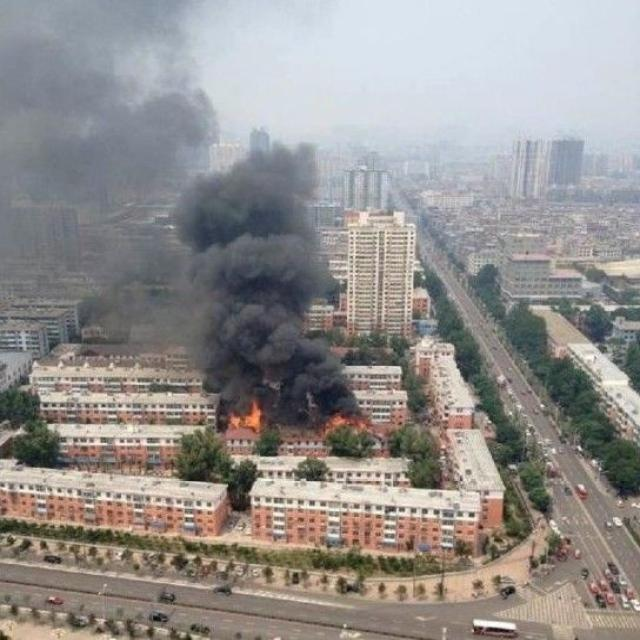Fire: (230, 402, 262, 428), (326, 414, 368, 432)
Smoke: (2, 1, 370, 426)
